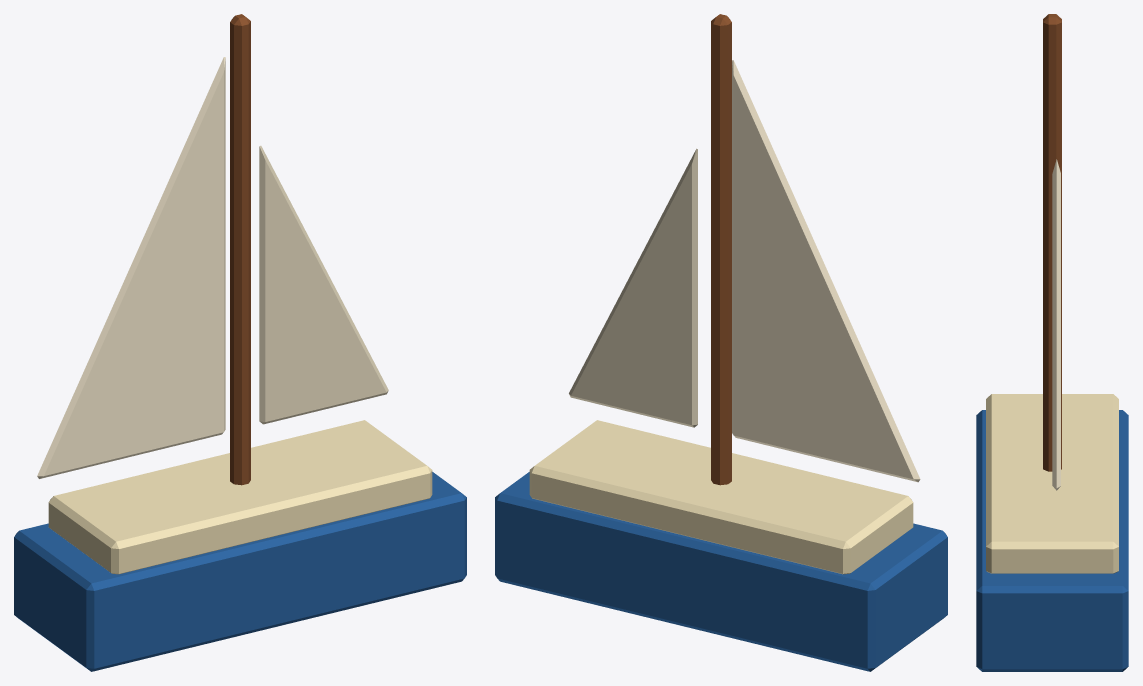
File: mini_sailboat.glb
3 renders of one model, left to right at view 1: azimuth 30°, elevation 25°; view 2: azimuth 150°, elevation 25°; view 3: azimuth 270°, elevation 25°, orthographic. The views are drawn at different scales.
Parts seen in each view (by area): view 1: mini_sailboat__body__azure, mini_sailboat__body__white, mini_sailboat__body__linen, mini_sailboat__body__cream, mini_sailboat__body__oak; view 2: mini_sailboat__body__azure, mini_sailboat__body__white, mini_sailboat__body__linen, mini_sailboat__body__cream, mini_sailboat__body__oak; view 3: mini_sailboat__body__linen, mini_sailboat__body__azure, mini_sailboat__body__oak, mini_sailboat__body__cream.
Part boxes in pixels (left/top/right/bottom): mini_sailboat__body__azure: left=14, top=472, right=466, bottom=671; mini_sailboat__body__white: left=37, top=57, right=225, bottom=478; mini_sailboat__body__linen: left=48, top=420, right=432, bottom=574; mini_sailboat__body__cream: left=259, top=145, right=388, bottom=424; mini_sailboat__body__oak: left=230, top=14, right=250, bottom=485; mini_sailboat__body__azure: left=495, top=472, right=947, bottom=671; mini_sailboat__body__white: left=732, top=60, right=920, bottom=482; mini_sailboat__body__linen: left=529, top=420, right=913, bottom=574; mini_sailboat__body__cream: left=569, top=148, right=697, bottom=427; mini_sailboat__body__oak: left=711, top=14, right=731, bottom=485; mini_sailboat__body__linen: left=986, top=394, right=1118, bottom=573; mini_sailboat__body__azure: left=976, top=410, right=1128, bottom=671; mini_sailboat__body__oak: left=1043, top=14, right=1061, bottom=471; mini_sailboat__body__cream: left=1052, top=159, right=1060, bottom=490.
Bounding box in the file's own units: 0.4629 × 0.66 × 0.16.
